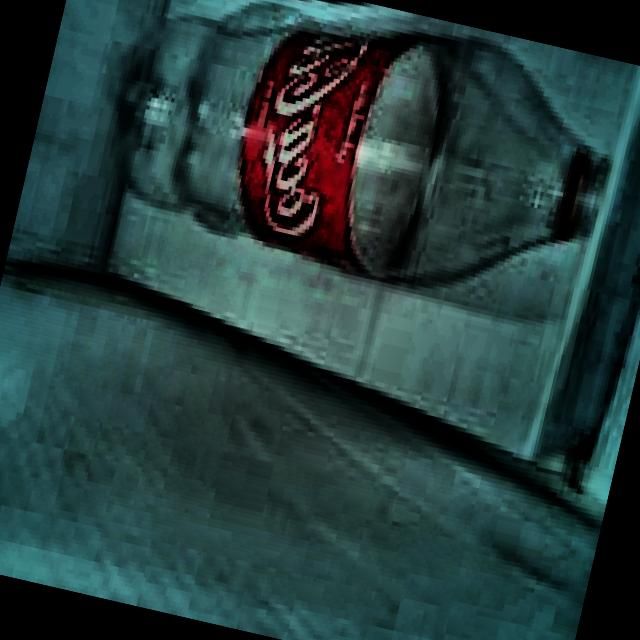plastic bottle: (118, 11, 602, 283)
